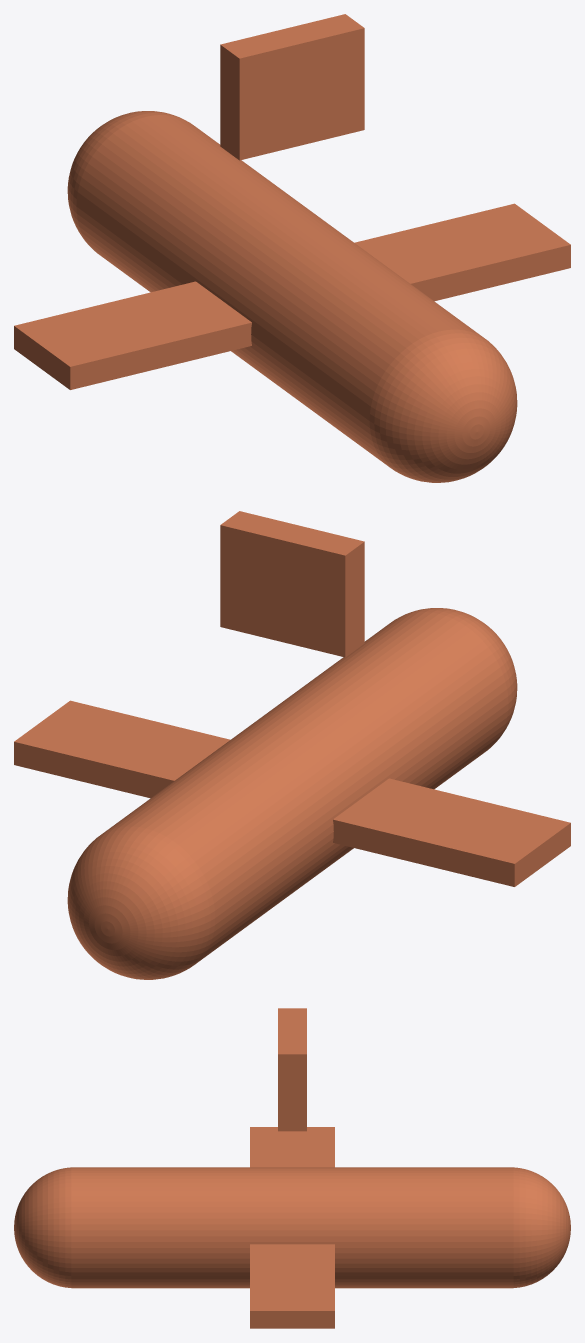
The model's file is tech_132.glb.
The picture shows the model from 3 angles, top to bottom: view 1: azimuth 30°, elevation 25°; view 2: azimuth 150°, elevation 25°; view 3: azimuth 270°, elevation 25°; orthographic projection. The views are drawn at different scales.
Visible parts, largest first — view 1: world; view 2: world; view 3: world.
Part boxes in pixels (x1,y1,x2,y2): world: (14,14,570,482); world: (14,511,570,979); world: (14,1008,570,1328).
Size of the model in its own units: 1.8 by 1.14 by 2.3.
